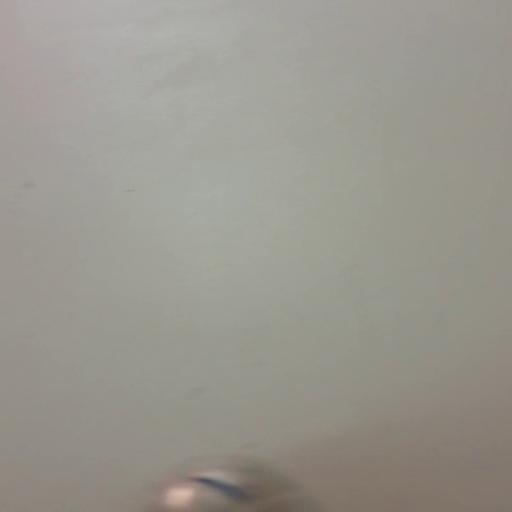alive: (136, 461, 314, 512)
